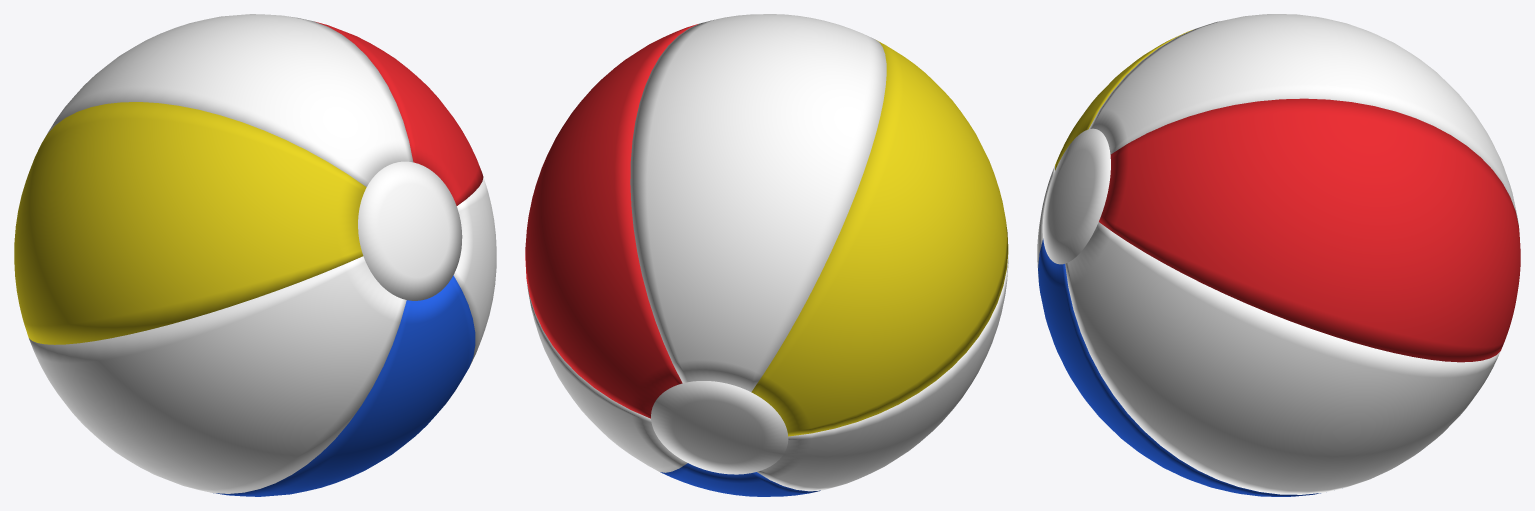
The model's file is ball.glb.
3 views of the same model, side by side, from view 1: azimuth 30°, elevation 25°; view 2: azimuth 150°, elevation 25°; view 3: azimuth 270°, elevation 25° (orthographic).
Parts seen in each view (by area): view 1: beach_ball; view 2: beach_ball; view 3: beach_ball.
Part boxes in pixels (left/top/right/bottom): beach_ball: left=14, top=14, right=496, bottom=496; beach_ball: left=525, top=14, right=1008, bottom=496; beach_ball: left=1037, top=14, right=1520, bottom=496.
Bounding box in the file's own units: 12.12 × 12.11 × 12.12.
